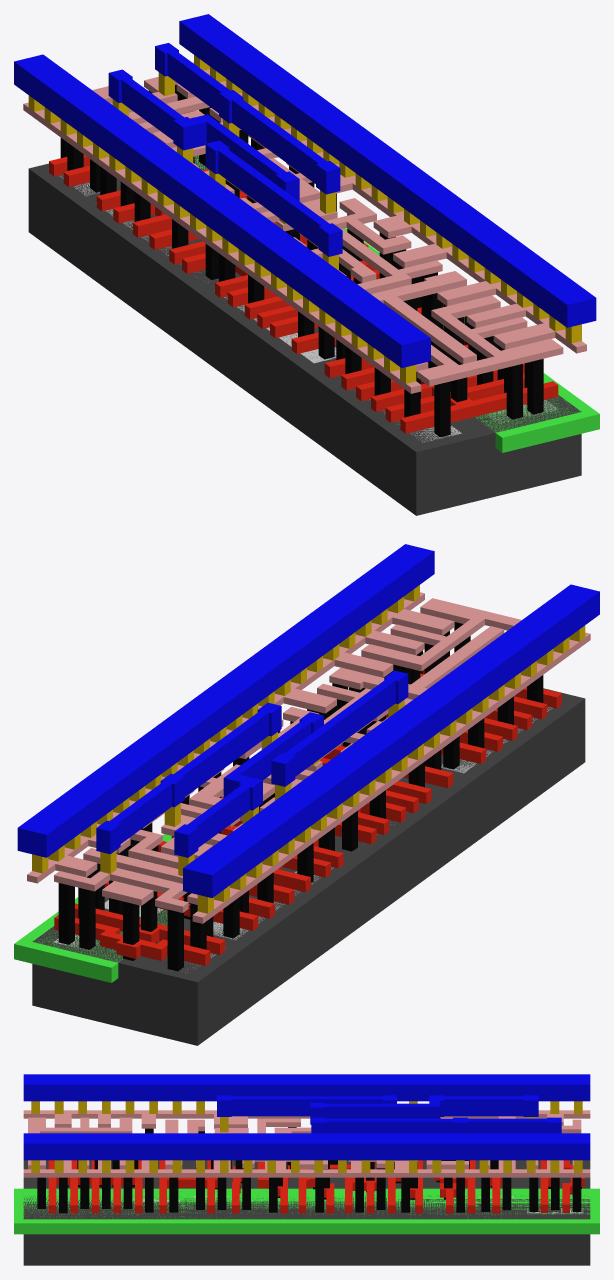
The model's file is sky130_fd_sc_hd__dfstp_4.obj.
3 renders of one model, top to bottom at view 1: azimuth 30°, elevation 25°; view 2: azimuth 150°, elevation 25°; view 3: azimuth 270°, elevation 25°, orthographic. The views are drawn at different scales.
Visible parts, largest first — view 1: metal1, subs, li, poly, licon, mcon, nwell, diff; view 2: metal1, subs, li, licon, poly, mcon, nwell; view 3: metal1, subs, nwell, li, poly, licon, mcon.
Part boxes in pixels (left/top/right/bottom): metal1: left=14, top=14, right=596, bottom=367; subs: left=28, top=155, right=581, bottom=515; li: left=23, top=62, right=586, bottom=393; poly: left=49, top=154, right=558, bottom=433; licon: left=60, top=84, right=543, bottom=437; mcon: left=28, top=55, right=581, bottom=383; nwell: left=194, top=156, right=599, bottom=452; diff: left=59, top=174, right=461, bottom=442; metal1: left=17, top=544, right=599, bottom=897; subs: left=32, top=688, right=585, bottom=1045; li: left=27, top=592, right=590, bottom=923; licon: left=58, top=622, right=543, bottom=971; poly: left=54, top=669, right=561, bottom=965; mcon: left=32, top=585, right=585, bottom=913; nwell: left=14, top=652, right=424, bottom=982; metal1: left=23, top=1074, right=590, bottom=1160; subs: left=23, top=1160, right=590, bottom=1265; nwell: left=14, top=1188, right=599, bottom=1234; li: left=23, top=1110, right=590, bottom=1177; poly: left=48, top=1160, right=584, bottom=1213; licon: left=37, top=1127, right=581, bottom=1213; mcon: left=31, top=1101, right=582, bottom=1172.
Size of the model in its own units: 3.2 by 2.74 by 11.42.
